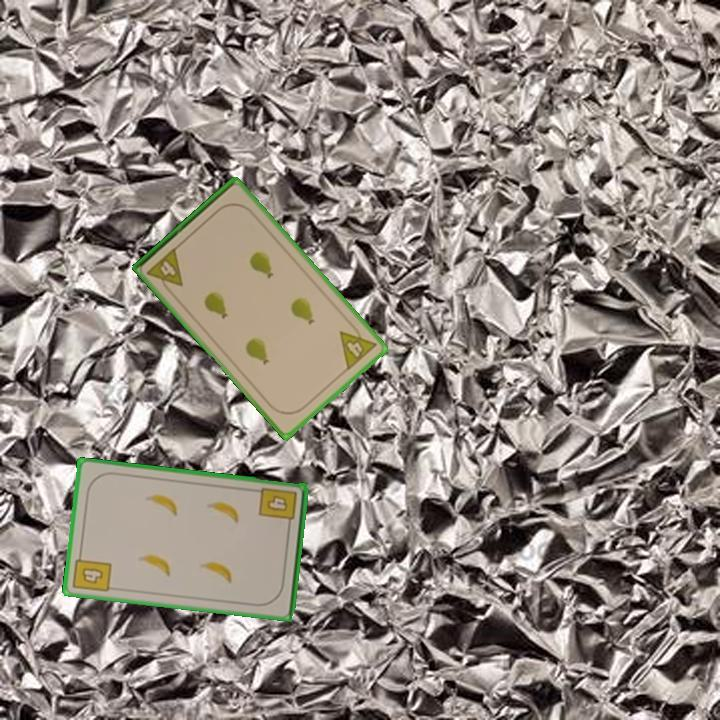4b: (69, 548, 114, 595), (256, 484, 300, 531)
4p: (336, 319, 380, 373), (143, 244, 186, 297)
